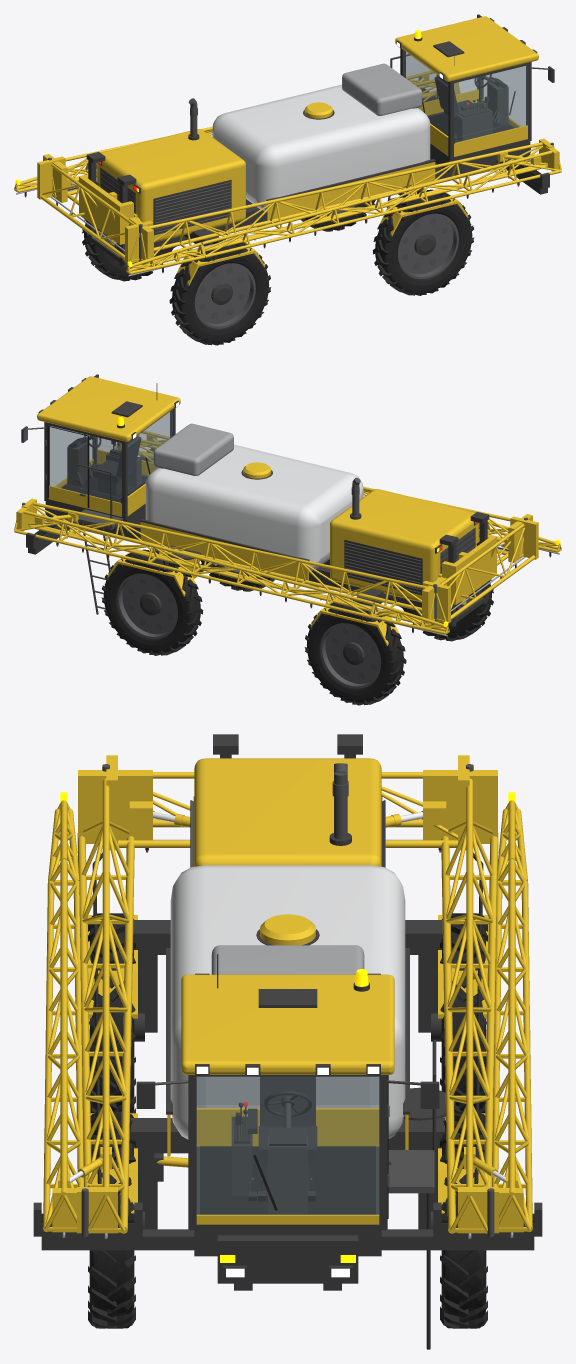
Rendered from self_propelled_sprayer.glb.
The picture shows the model from 3 angles, top to bottom: view 1: azimuth 30°, elevation 25°; view 2: azimuth 150°, elevation 25°; view 3: azimuth 270°, elevation 25°; orthographic projection. The views are drawn at different scales.
Visible parts, largest first — view 1: chassis, cab, wheel_front_right_spin, wheel_rear_right_spin, boom_right_rotate, boom_right_outer_rotate, boom_lift, boom_left_rotate, wheel_rear_left_spin, boom_right_tip_rotate, wheel_front_left_spin, wheel_front_right_steer (+1 smaller); view 2: chassis, cab, wheel_front_left_spin, wheel_rear_left_spin, boom_left_rotate, boom_left_outer_rotate, boom_lift, boom_right_rotate, wheel_rear_right_spin, boom_left_tip_rotate, wheel_front_right_spin, wheel_front_left_steer (+1 smaller); view 3: chassis, cab, boom_right_rotate, boom_left_rotate, boom_right_outer_rotate, boom_left_outer_rotate, wheel_front_right_spin, boom_lift, wheel_front_left_spin, wheel_rear_right_spin, wheel_rear_left_spin, wheel_front_right_steer (+3 smaller).
Part boxes in pixels (left/top/right/bottom): chassis: left=86, top=63, right=549, bottom=285; cab: left=386, top=14, right=554, bottom=207; wheel_front_right_spin: left=372, top=189, right=474, bottom=295; wheel_rear_right_spin: left=169, top=239, right=271, bottom=345; boom_right_rotate: left=129, top=138, right=554, bottom=264; boom_right_outer_rotate: left=199, top=146, right=561, bottom=260; boom_lift: left=37, top=156, right=153, bottom=263; boom_left_rotate: left=43, top=79, right=460, bottom=202; wheel_rear_left_spin: left=82, top=219, right=176, bottom=281; boom_right_tip_rotate: left=126, top=242, right=204, bottom=279; wheel_front_left_spin: left=301, top=200, right=375, bottom=231; wheel_front_right_steer: left=380, top=192, right=468, bottom=236; chassis: left=26, top=423, right=489, bottom=645; cab: left=21, top=374, right=180, bottom=614; wheel_front_left_spin: left=101, top=549, right=203, bottom=655; wheel_rear_left_spin: left=304, top=599, right=406, bottom=705; boom_left_rotate: left=21, top=498, right=446, bottom=624; boom_left_outer_rotate: left=14, top=506, right=376, bottom=620; boom_lift: left=422, top=516, right=538, bottom=623; boom_right_rotate: left=116, top=439, right=532, bottom=562; wheel_rear_right_spin: left=399, top=579, right=493, bottom=641; boom_left_tip_rotate: left=371, top=602, right=449, bottom=639; wheel_front_right_spin: left=200, top=560, right=274, bottom=591; wheel_front_left_steer: left=107, top=552, right=195, bottom=596; chassis: left=33, top=734, right=542, bottom=1290; cab: left=136, top=954, right=439, bottom=1349; boom_right_rotate: left=77, top=770, right=152, bottom=1238; boom_left_rotate: left=423, top=770, right=498, bottom=1238; boom_right_outer_rotate: left=43, top=859, right=83, bottom=1237; boom_left_outer_rotate: left=492, top=859, right=532, bottom=1237; wheel_front_right_spin: left=88, top=1111, right=135, bottom=1328; boom_lift: left=102, top=755, right=473, bottom=852; wheel_front_left_spin: left=440, top=1111, right=487, bottom=1328; wheel_rear_right_spin: left=88, top=913, right=135, bottom=1113; wheel_rear_left_spin: left=440, top=913, right=487, bottom=1113; wheel_front_right_steer: left=90, top=1113, right=157, bottom=1229.
Bounding box in the file's own units: 8.77 × 3.95 × 4.34.
19 materials, 19 textured.
